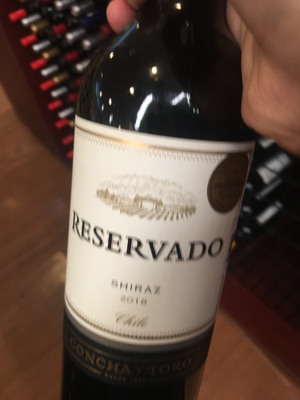reservado shiraz: (66, 30, 256, 400)
